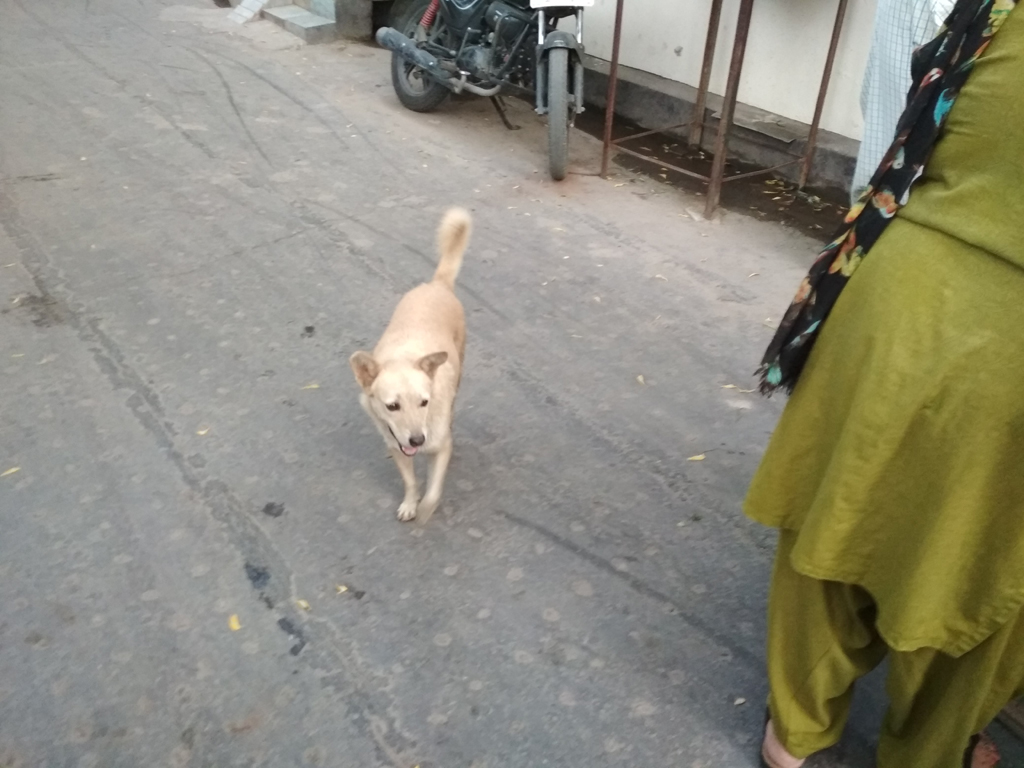dog: (350, 206, 467, 523)
